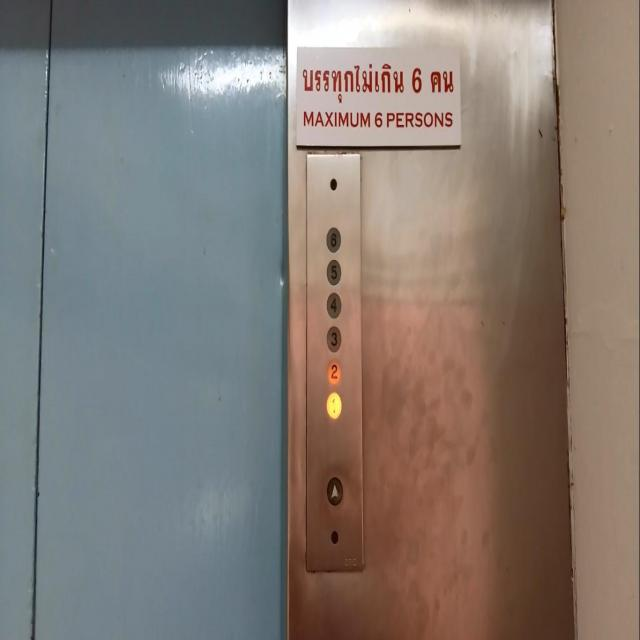1: (326, 392, 342, 418)
2: (326, 358, 342, 385)
3: (326, 325, 342, 352)
4: (326, 291, 341, 318)
5: (326, 258, 341, 285)
6: (326, 226, 340, 252)
up: (326, 476, 343, 506)
